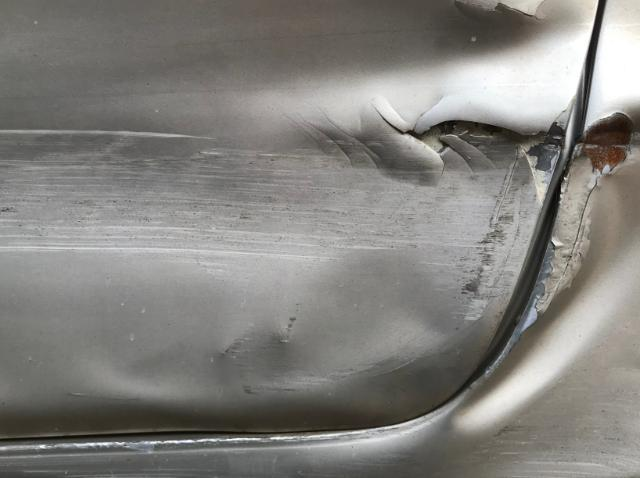Door: (0, 69, 518, 351)
Fender: (545, 109, 640, 312)
